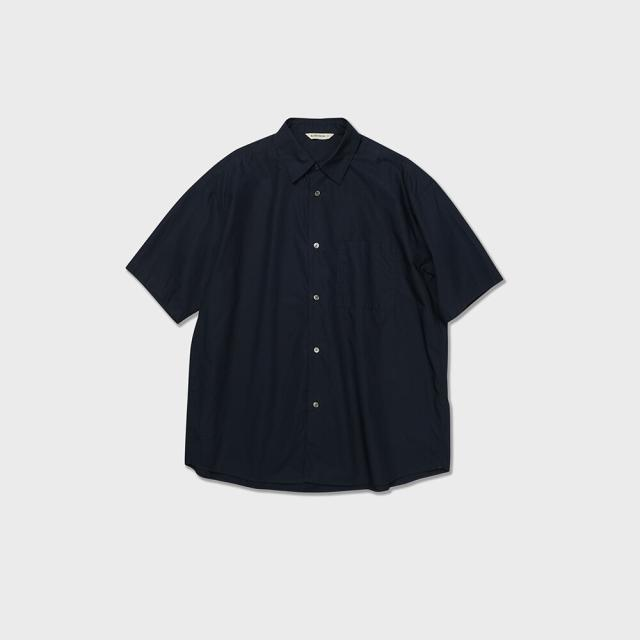Blouse_deep: (132, 110, 495, 486)
